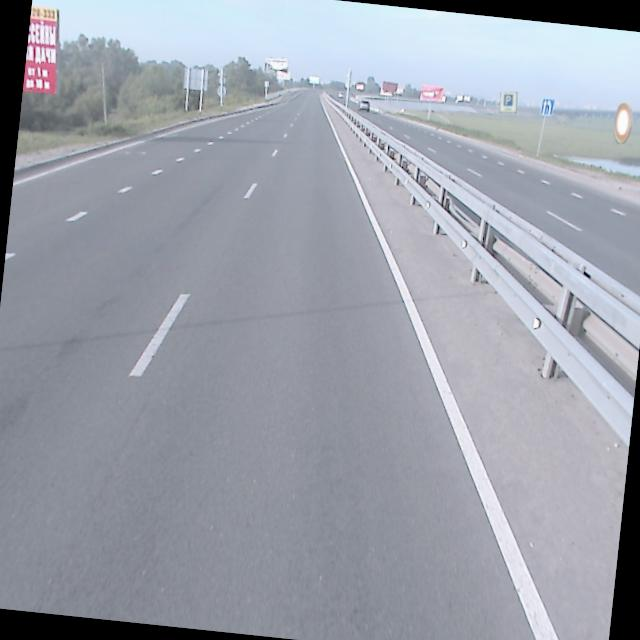road: (0, 89, 562, 640)
